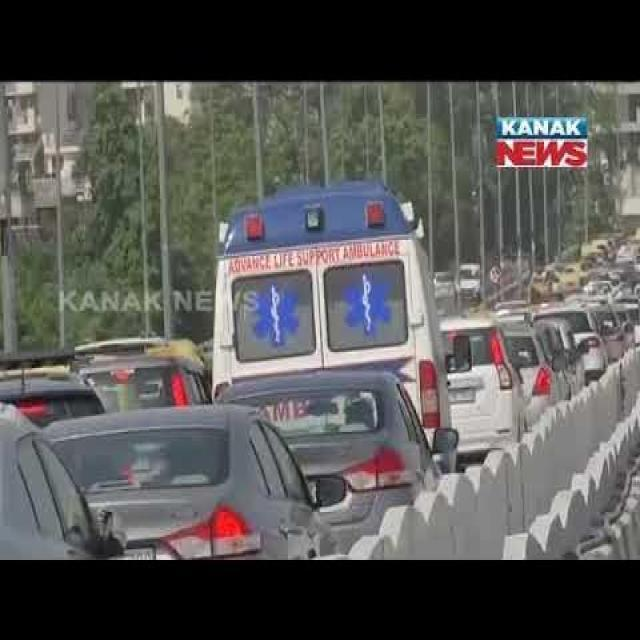Ambulance: (0, 179, 639, 562), (207, 177, 460, 472), (23, 401, 334, 562), (213, 367, 454, 558)
